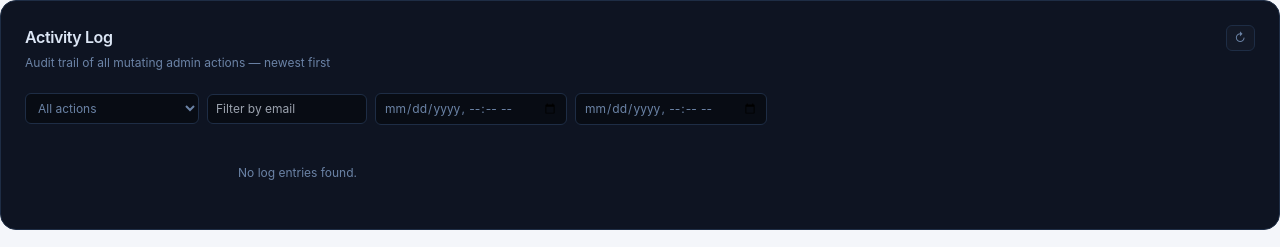
Test: ActivityLogCard — filters › shows Clear button after email filter is set
The width and height of the screenshot is (1280, 247).
In the field with placeholder "Filter by email": (287, 108) [207,94,367,124], type "a@b.com"
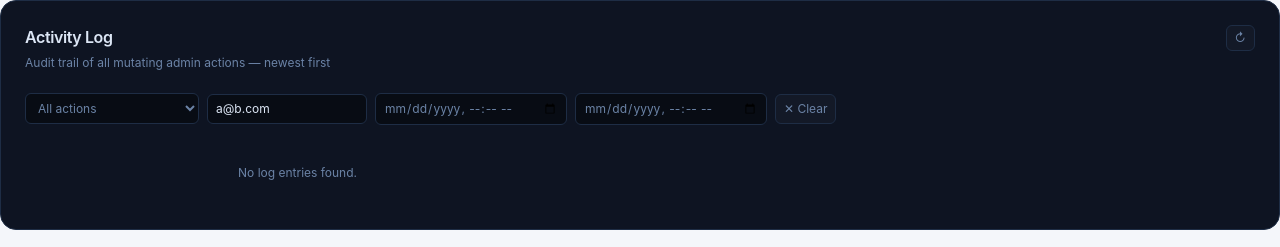
Check: the button "✕ Clear" is shown, box [775,94,836,124]
